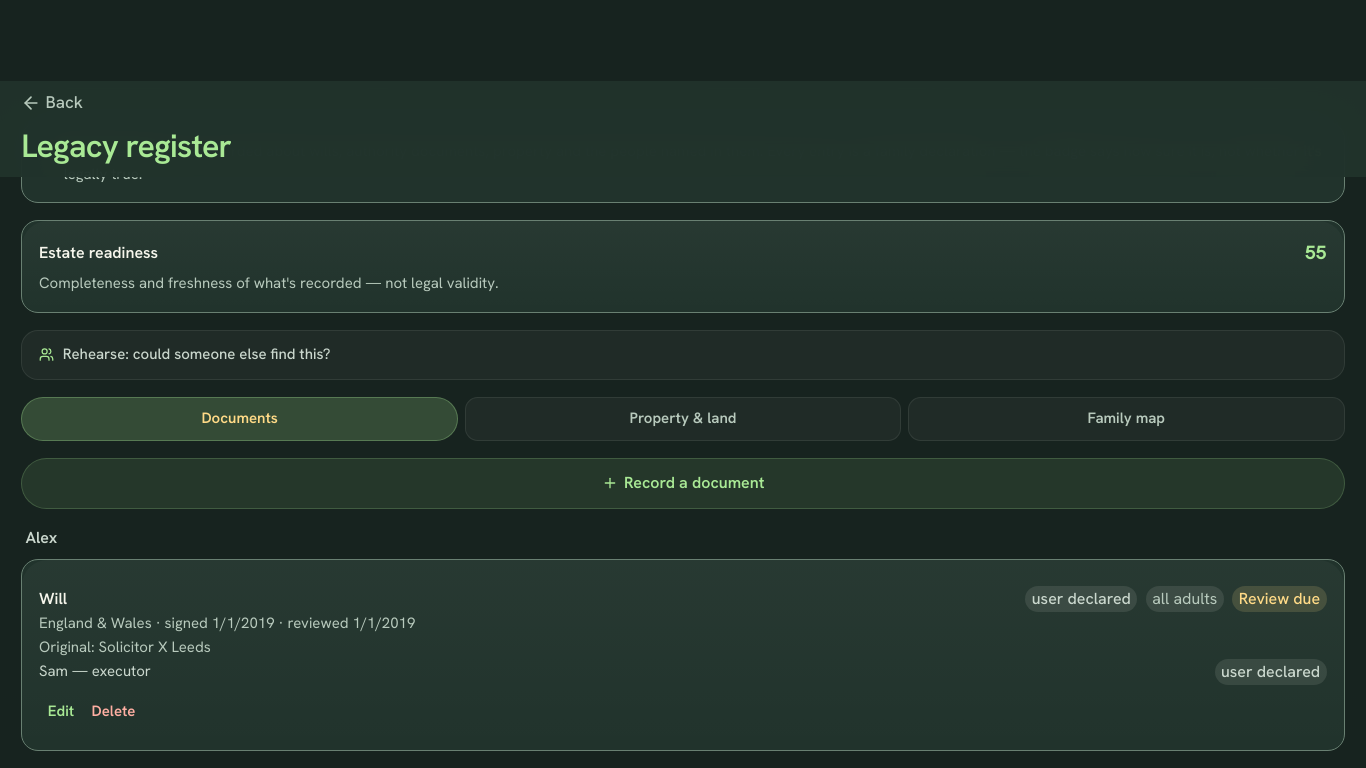
LegacyClient › property tab shows legacy fields with verification badges
Expected: the text "will" is shown, [39,587,67,608]
Click the button "Property & land" at point(683, 418), box [464,396,901,440]
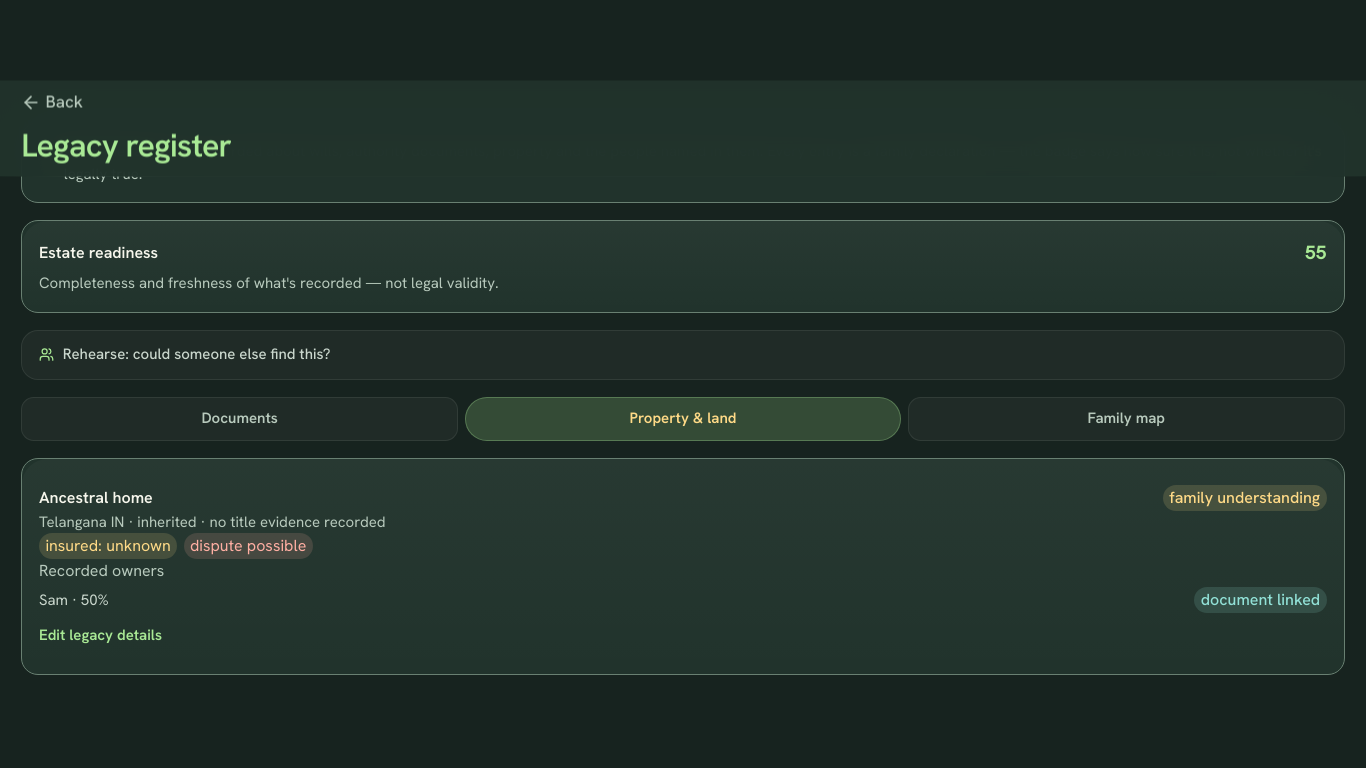
Result: the text "Ancestral home" is shown at [39,486,153,507]
Result: the text "Telangana IN · inherited · no title evidence recorded" is shown at [39,511,386,531]
Result: the text "dispute possible" is shown at [184,532,313,558]
